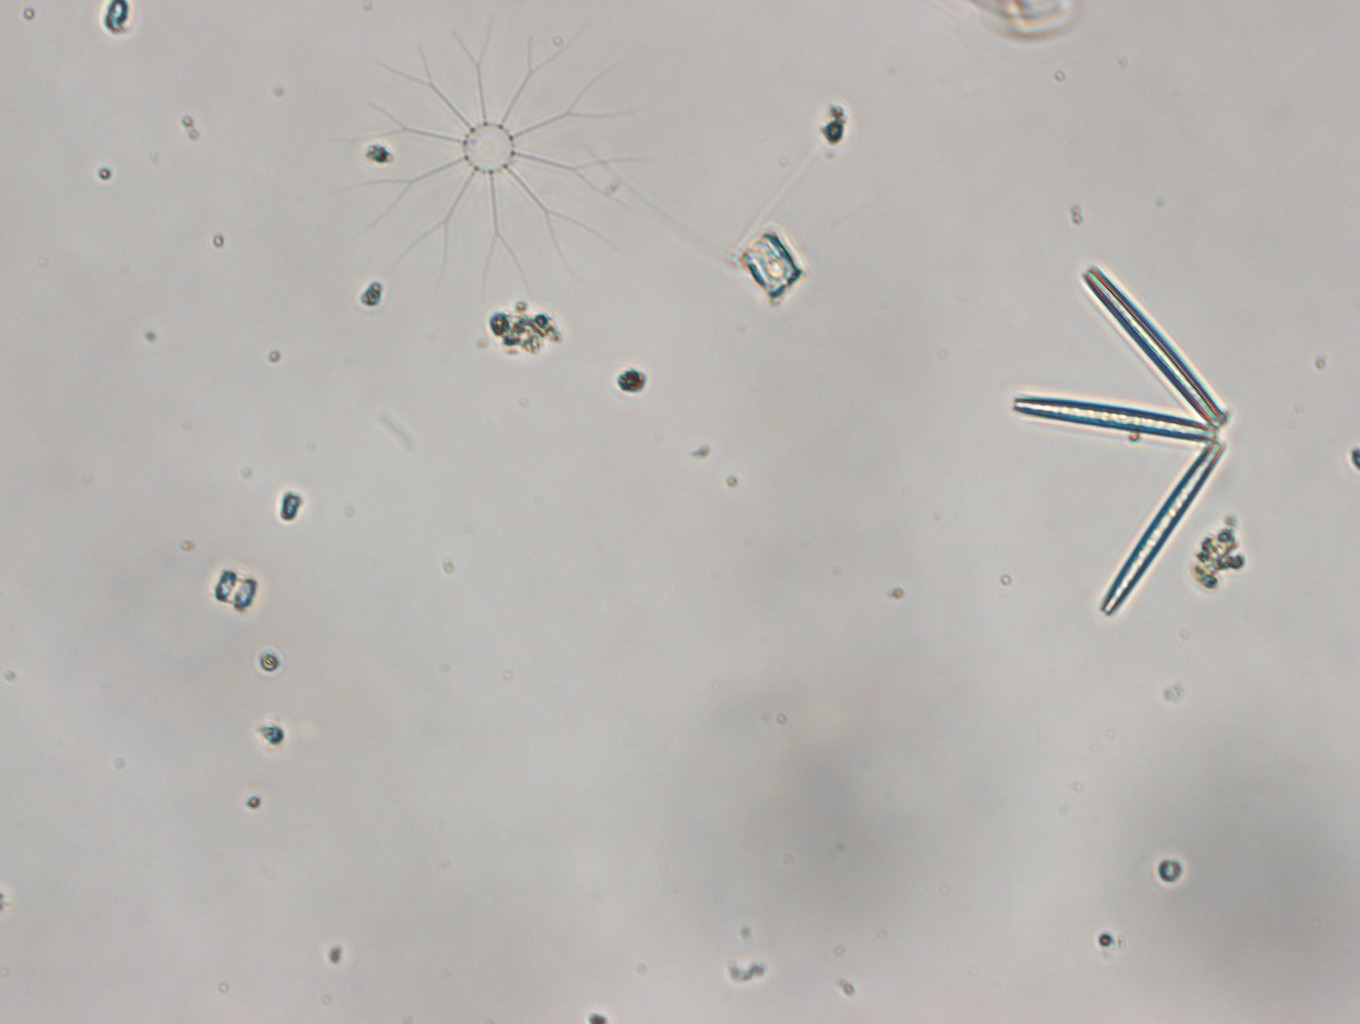bacteriastrum: (377, 15, 635, 285)
thalassionema frauenfeldii: (1016, 260, 1227, 620)
